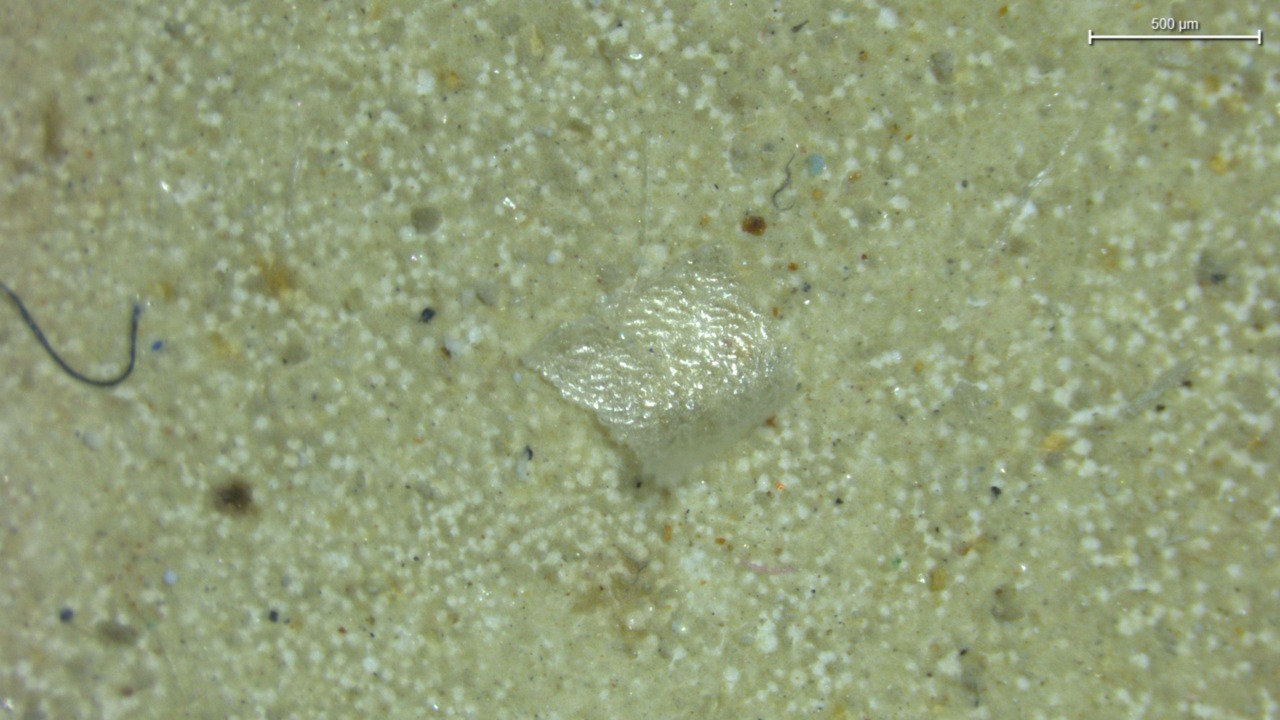microplastic_fragment: (522, 263, 798, 486)
